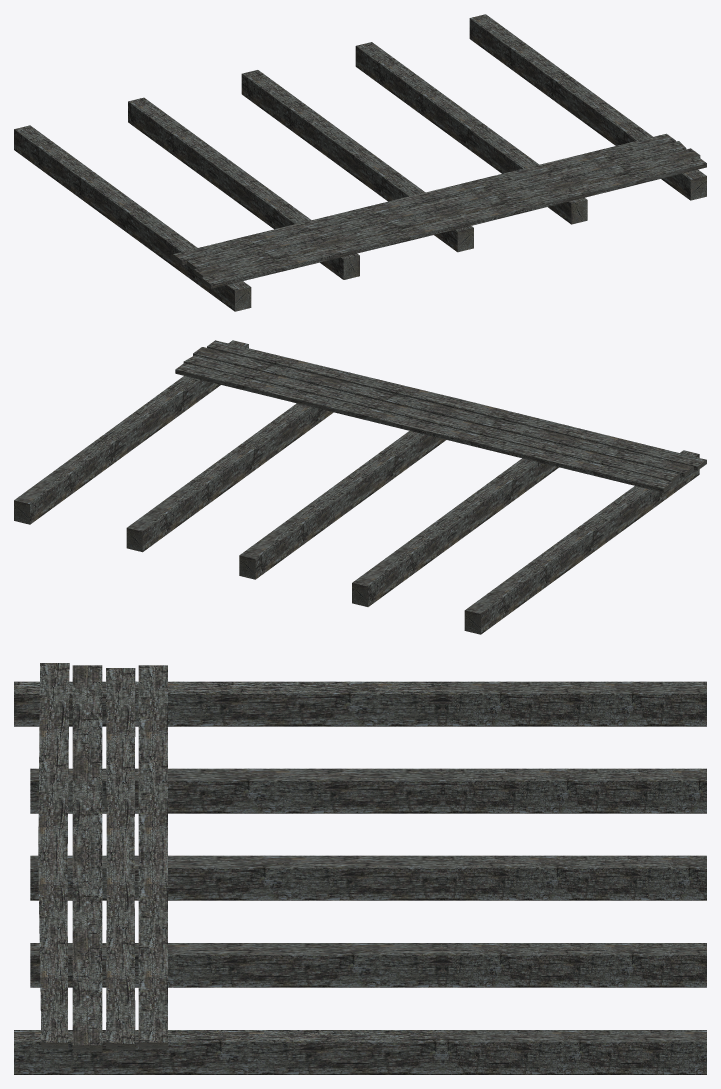
Rendered from House_deck_Alex.fbx.
3 renders of one model, top to bottom at view 1: azimuth 30°, elevation 25°; view 2: azimuth 150°, elevation 25°; view 3: azimuth 270°, elevation 25°, orthographic. The views are drawn at different scales.
Visible parts, largest first — view 1: House_platform; view 2: House_platform; view 3: House_platform.
Part boxes in pixels (box(x1,y1,x2,y2)): House_platform: box(14, 14, 706, 311); House_platform: box(14, 340, 706, 634); House_platform: box(14, 663, 706, 1074).
Size of the model in its own units: 760 by 36.16 by 583.
1 material, 1 textured.
